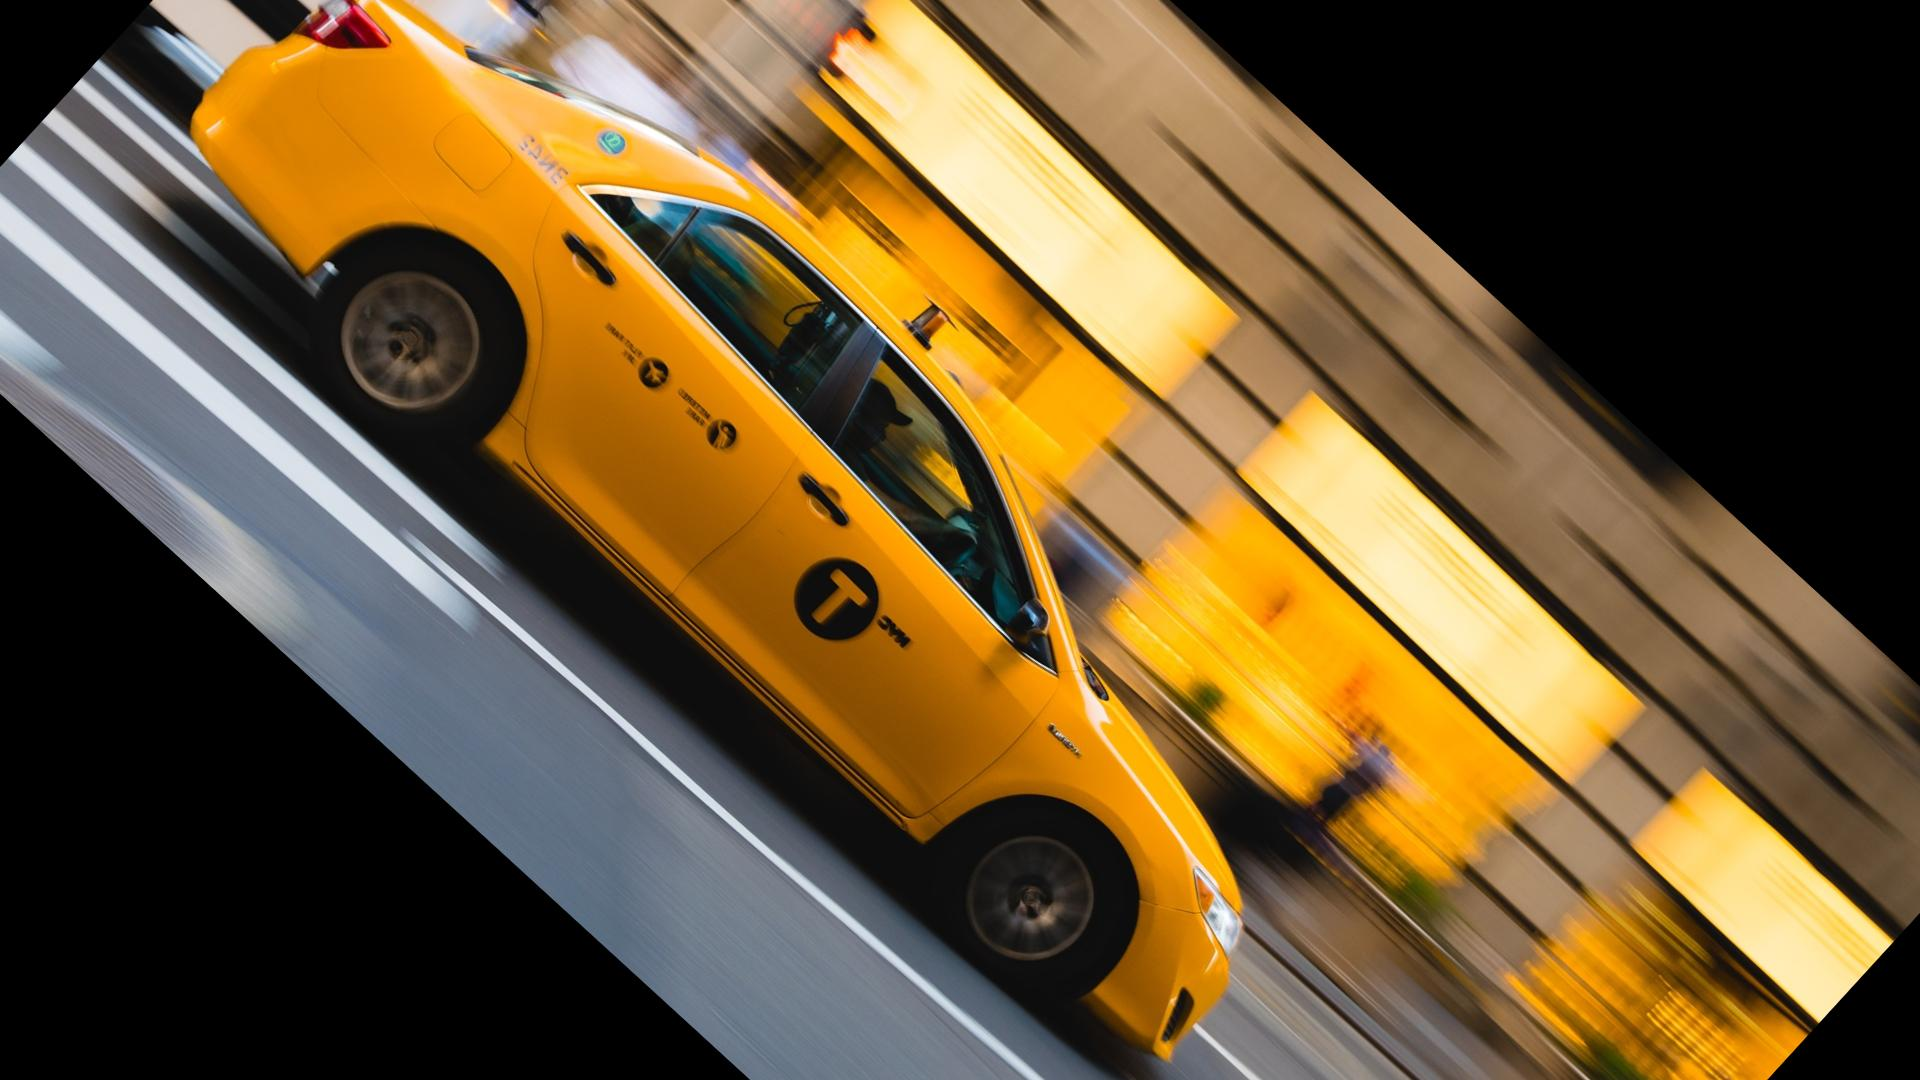taxi: (225, 141, 1232, 1064)
